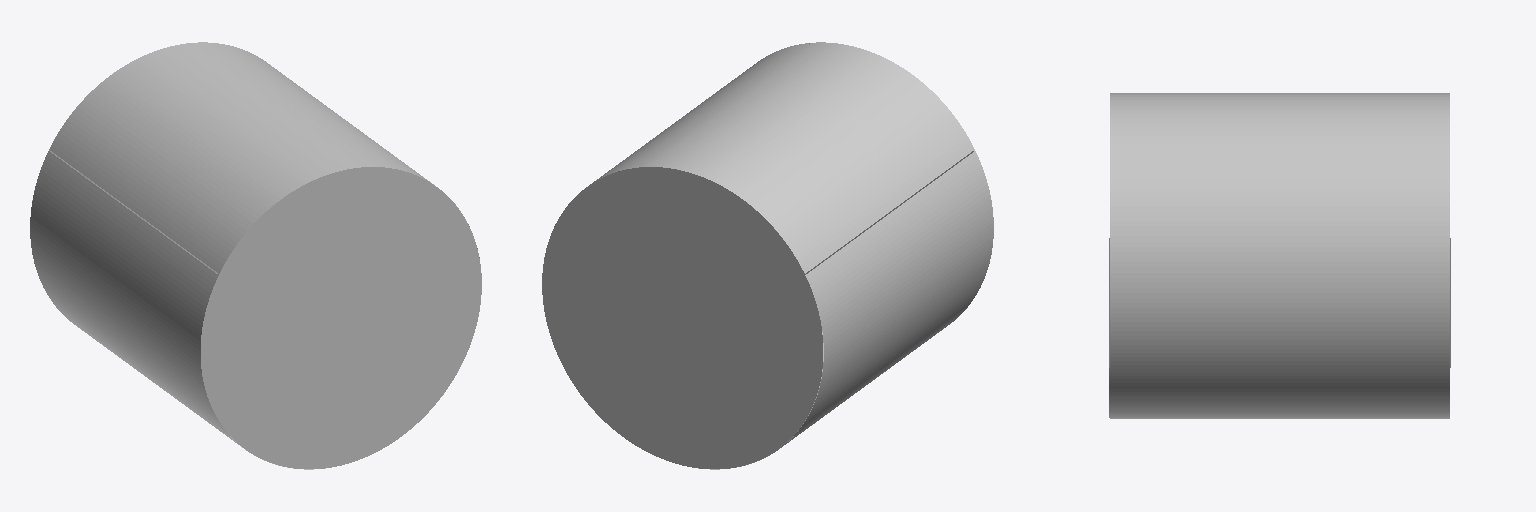
Rendered from plane bend98.obj.
3 views of the same model, side by side, from view 1: azimuth 30°, elevation 25°; view 2: azimuth 150°, elevation 25°; view 3: azimuth 270°, elevation 25° (orthographic).
Visible parts, largest first — view 1: Plane, Circle; view 2: Plane, Circle.001; view 3: Plane.
Part boxes in pixels (left/top/right/bottom): Plane: left=30, top=42, right=479, bottom=469; Circle: left=200, top=166, right=481, bottom=468; Plane: left=544, top=42, right=993, bottom=469; Circle.001: left=542, top=167, right=822, bottom=468; Plane: left=1110, top=93, right=1449, bottom=418.
Bounding box in the file's own units: 1.91 × 1.91 × 2.01.